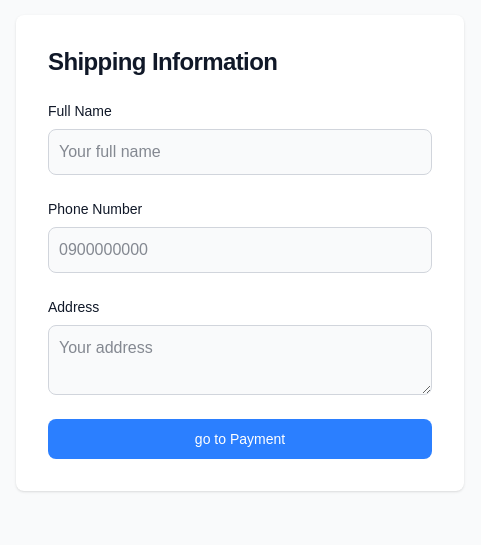
Test: CheckoutForm - Validation Tests › should show validation errors for all fields with invalid data
In the field with test id "name-input": (240, 152) [48,129,432,175], type "123"
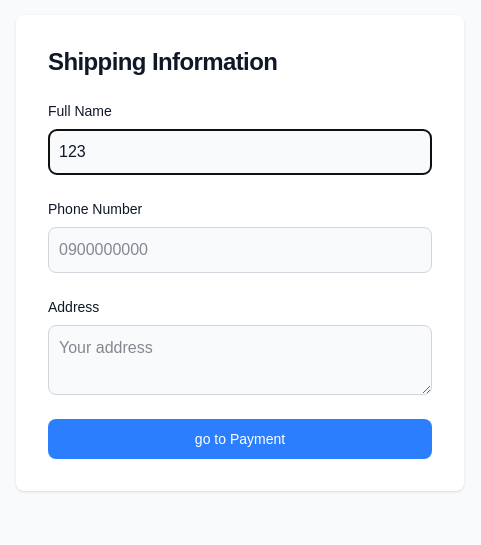
In the field with test id "phone-input": (240, 250) [48,227,432,273], type "abc"
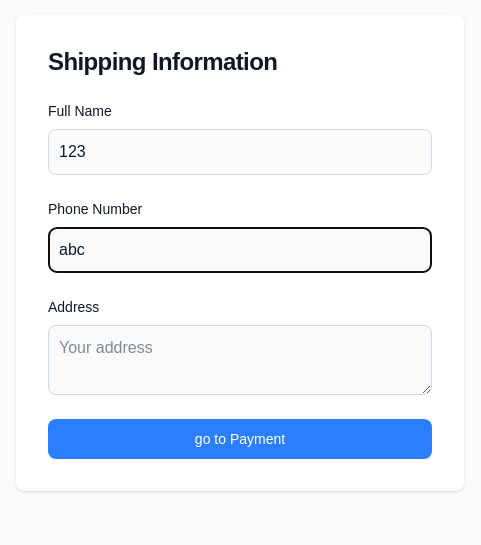
In the text box with test id "address-input": (240, 360) [48,325,432,395], type "@wv.com"
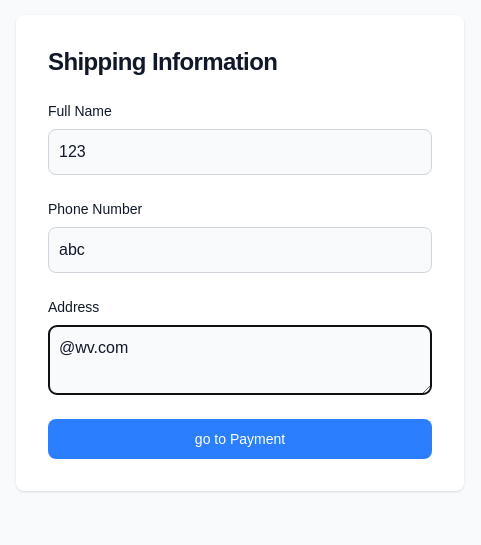
Submit the form with test id "form", box [48,101,432,459]
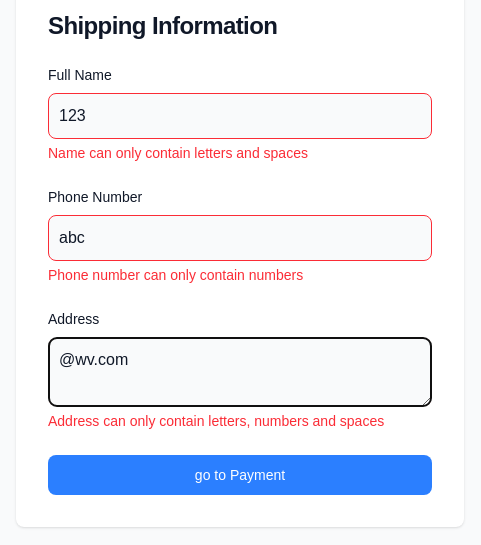
Check: the text with test id "name-error" reads "Name can only contain letters and spaces", box [48,145,308,161]
Check: the text with test id "phone-error" reads "Phone number can only contain numbers", box [48,267,303,283]
Check: the text with test id "address-error" reads "Address can only contain letters, numbers and spaces", box [48,413,384,429]
